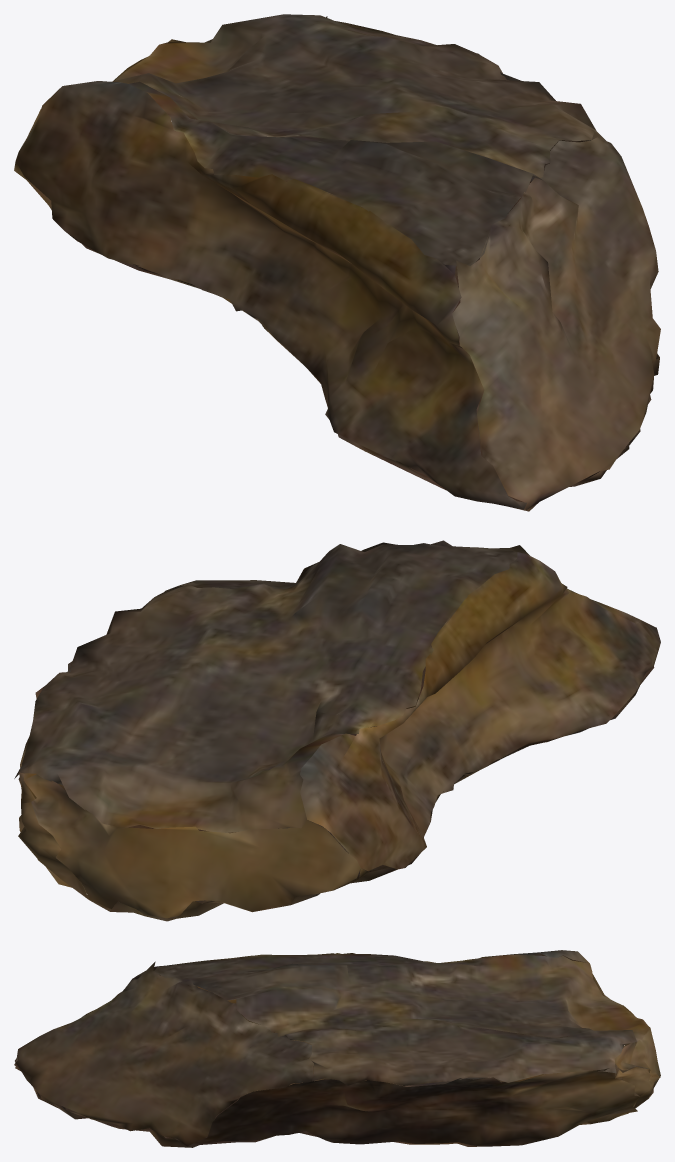
Rendered from rock-09-garden.glb.
3 renders of one model, top to bottom at view 1: azimuth 30°, elevation 25°; view 2: azimuth 150°, elevation 25°; view 3: azimuth 270°, elevation 25°, orthographic. The views are drawn at different scales.
Visible parts, largest first — view 1: Garden stone · Rock 09; view 2: Garden stone · Rock 09; view 3: Garden stone · Rock 09.
Part boxes in pixels (x1,y1,x2,y2): Garden stone · Rock 09: (14, 14, 660, 511); Garden stone · Rock 09: (14, 540, 660, 921); Garden stone · Rock 09: (14, 950, 660, 1147).
Bounding box in the file's own units: 0.4206 × 0.1848 × 0.8206.
Materials: 1 (1 with a texture image).
